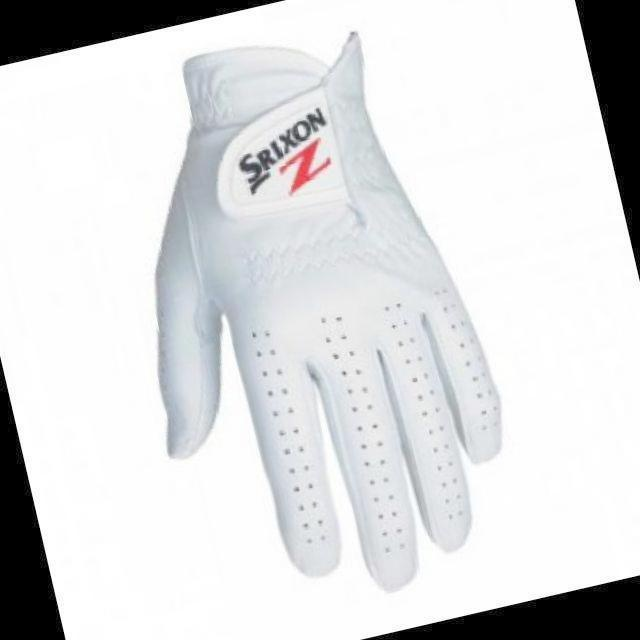Guantes: (152, 29, 504, 592)
